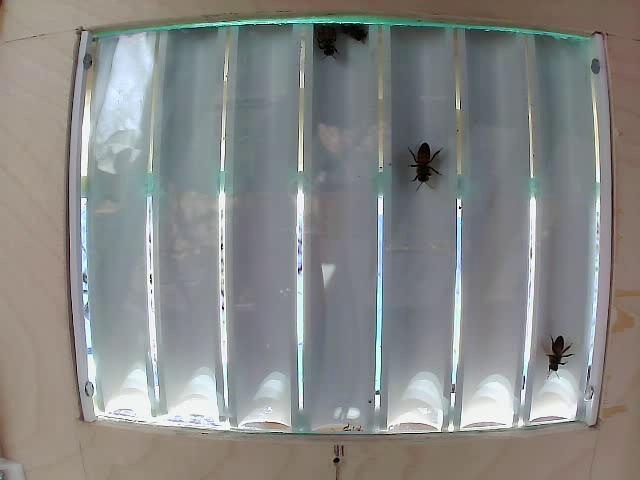bee: (405, 144, 442, 194), (539, 324, 577, 370)
